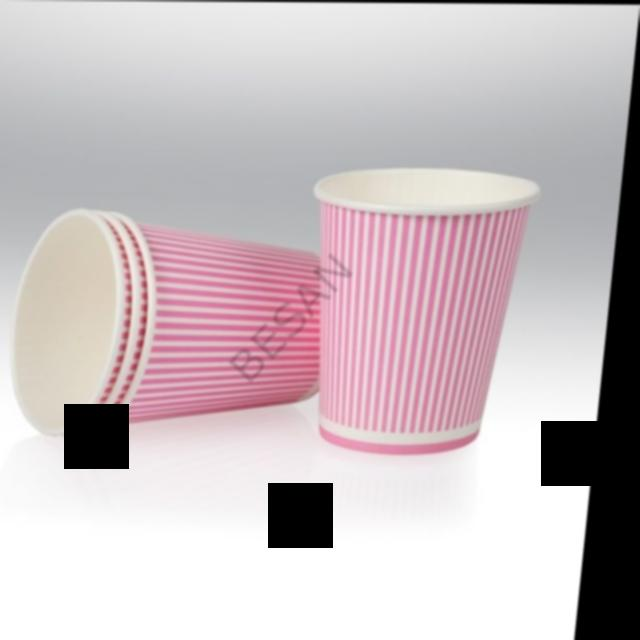karton-bardak: (12, 188, 335, 496), (294, 167, 555, 461)
